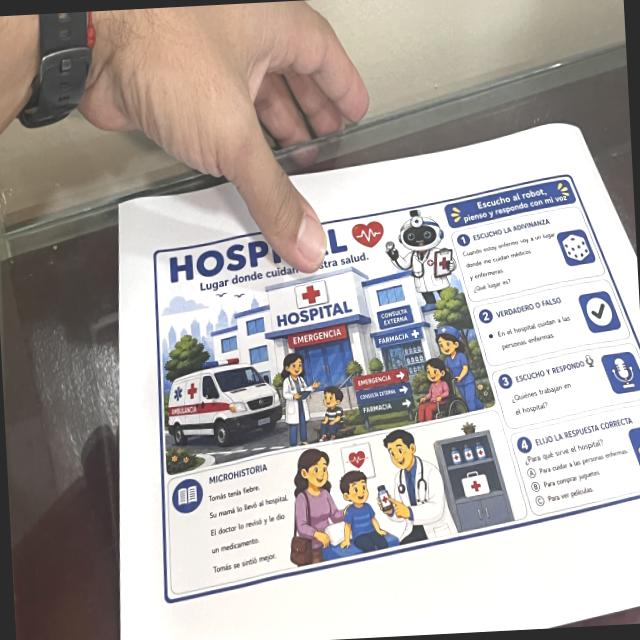hospital: (141, 168, 640, 607)
